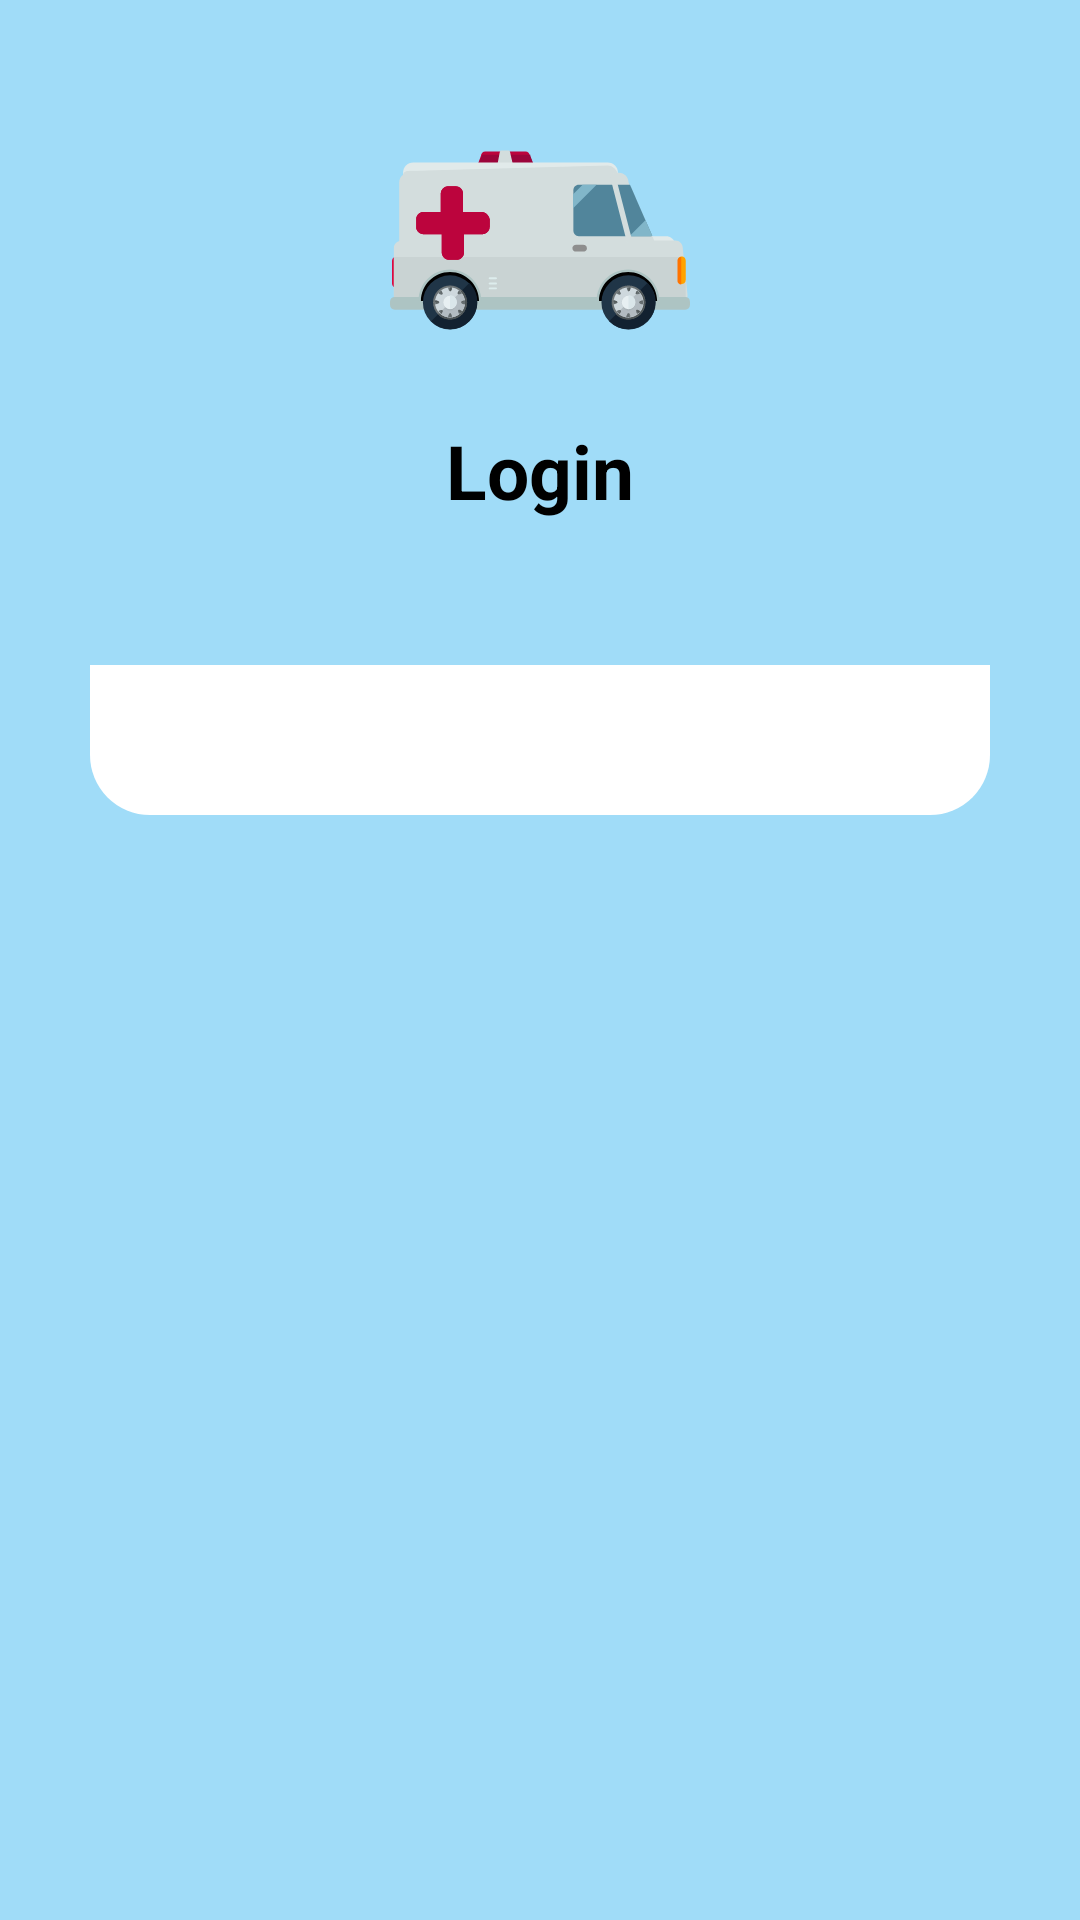

Icons on this 1080px×1920px Android screen, each with its box as box(x1, y1, x2, y2):
ambulance: box(390, 150, 690, 330)
